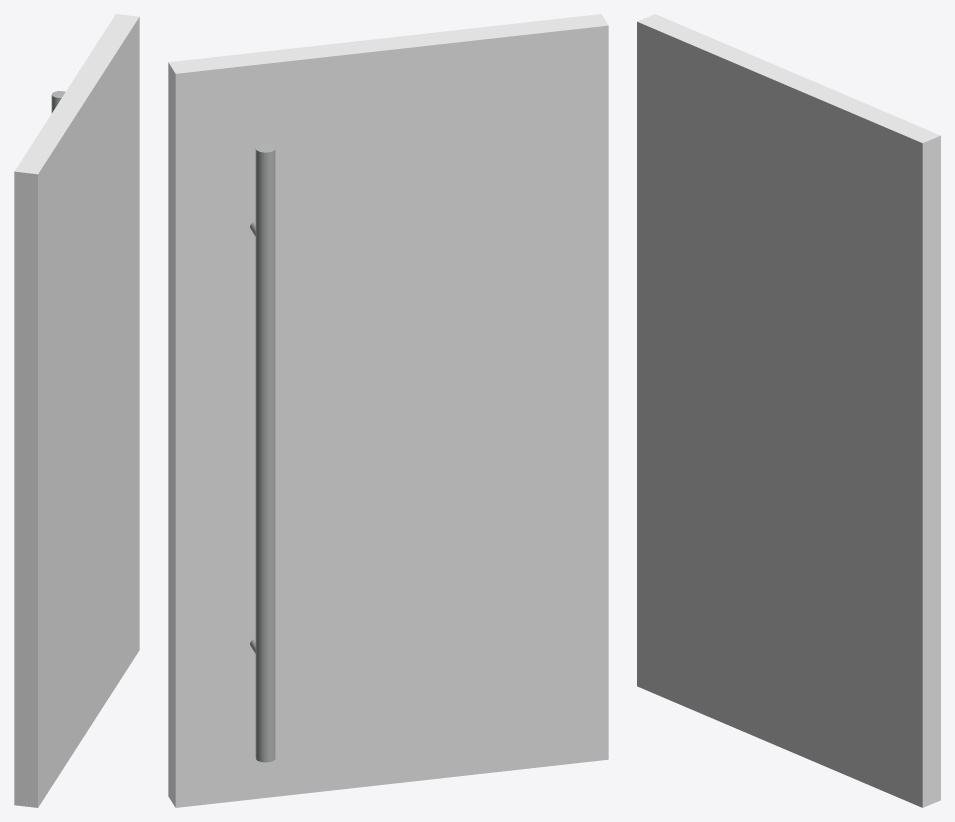
File: puerta_sal.fbx
3 renders of one model, left to right at view 1: azimuth 30°, elevation 25°; view 2: azimuth 150°, elevation 25°; view 3: azimuth 270°, elevation 25°, orthographic. The views are drawn at different scales.
Parts seen in each view (by area): view 1: puerta.001; view 2: puerta.001; view 3: puerta.001.
Part boxes in pixels (x1,y1,x2,y2): puerta.001: [14, 14, 139, 807]; puerta.001: [168, 14, 608, 807]; puerta.001: [637, 14, 940, 807].
Bounding box in the file's own units: 238 × 571 × 236.
2 materials, 2 textured.
